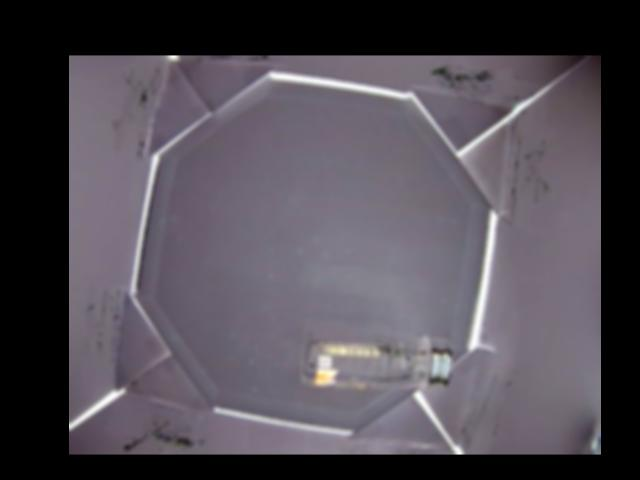Bottle: (300, 328, 453, 395)
